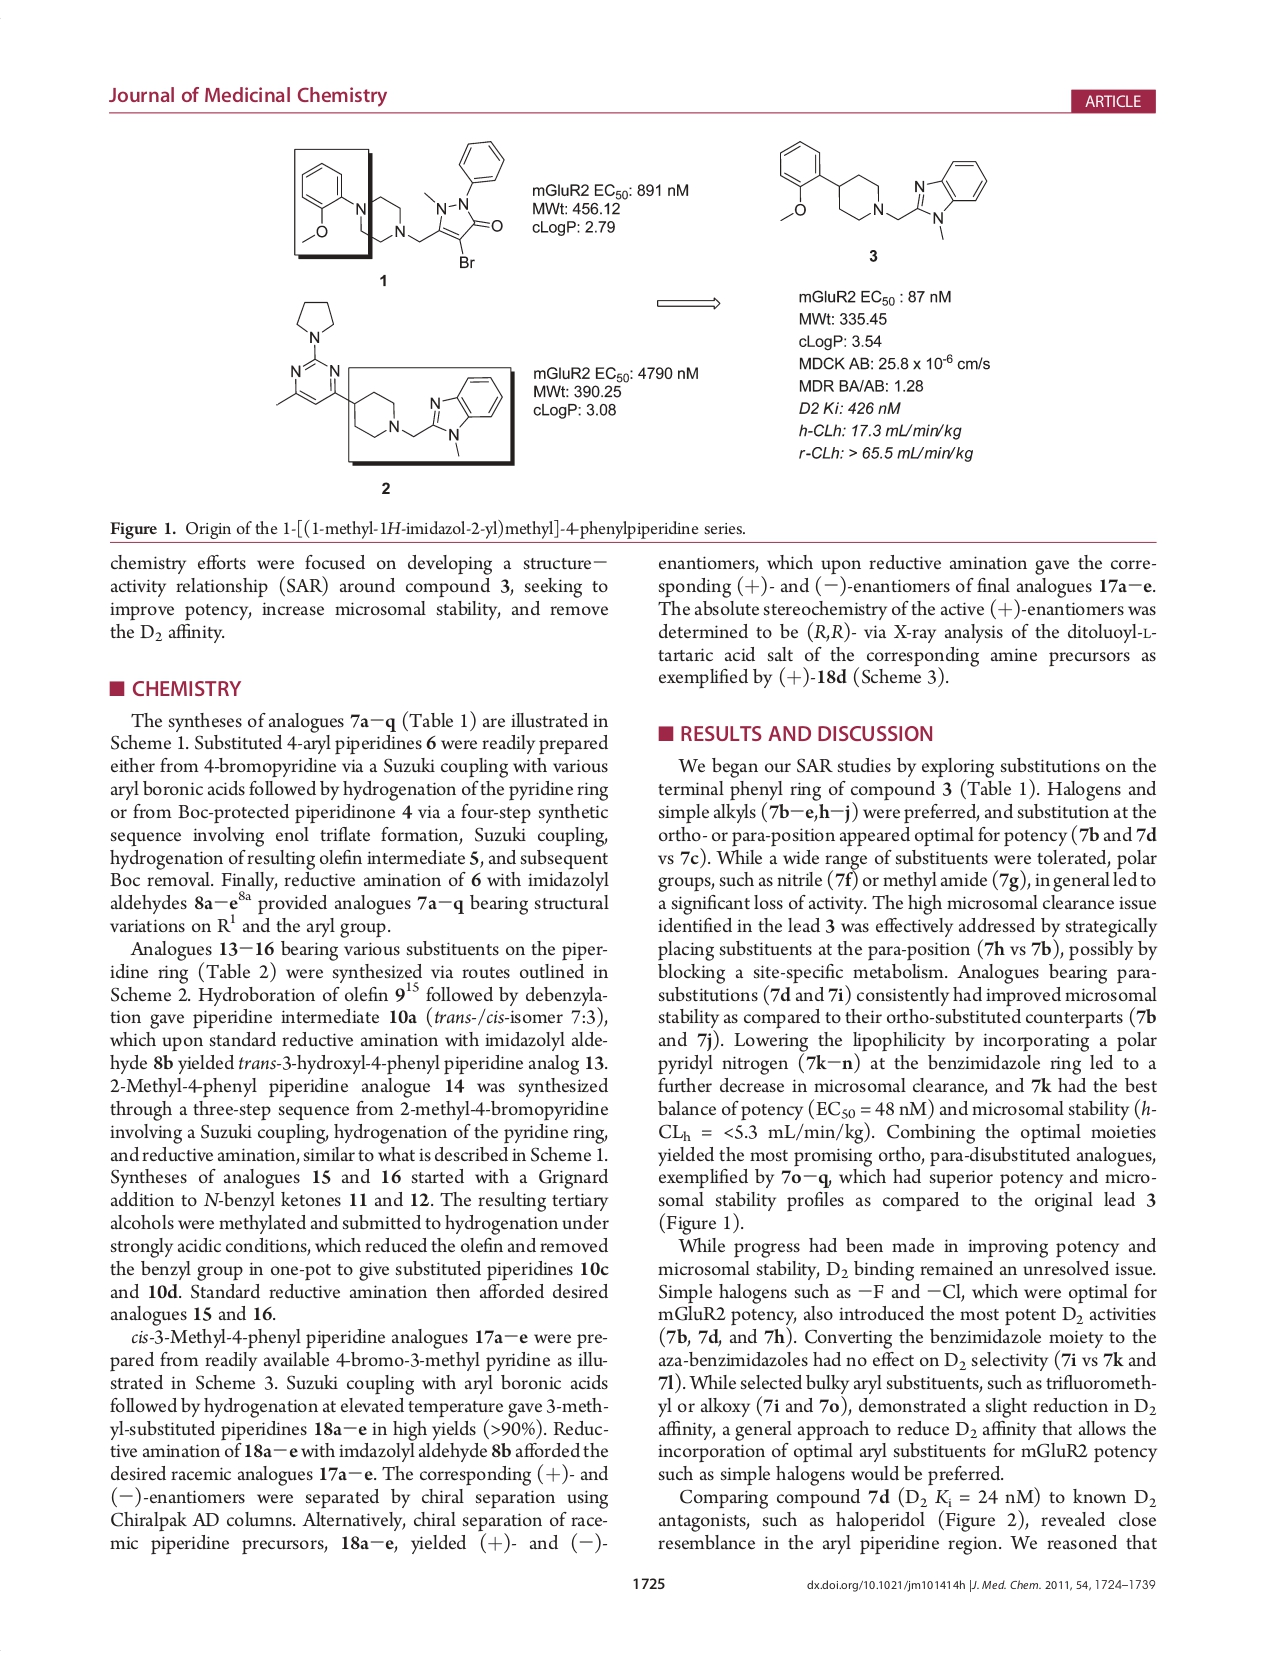exist_molecular: (274, 299, 505, 457), (297, 140, 507, 270), (774, 136, 988, 245)
